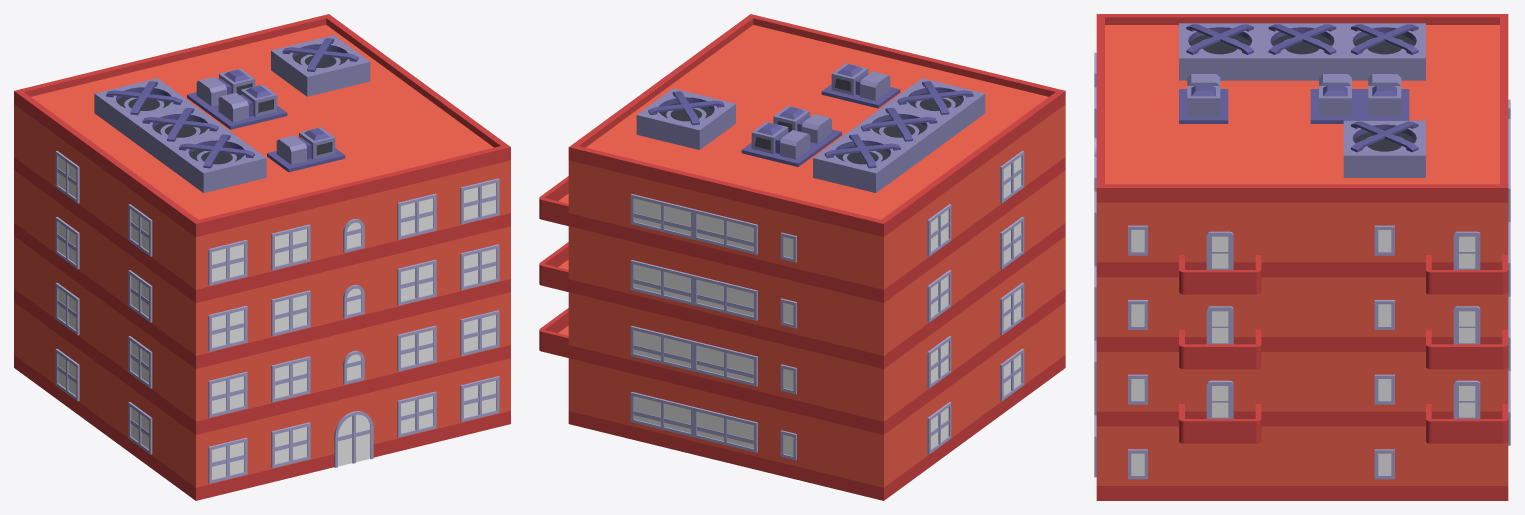
File: apartment.fbx
3 views of the same model, side by side, from view 1: azimuth 30°, elevation 25°; view 2: azimuth 150°, elevation 25°; view 3: azimuth 270°, elevation 25° (orthographic). The views are drawn at different scales.
Visible parts, largest first — view 1: mergedBlocks; view 2: mergedBlocks; view 3: mergedBlocks.
Part boxes in pixels (x1,y1,x2,y2): mergedBlocks: (14,14,510,500); mergedBlocks: (539,14,1065,500); mergedBlocks: (1094,14,1510,500).
Bounding box in the file's own units: 55.3 × 44.6 × 50.6.
